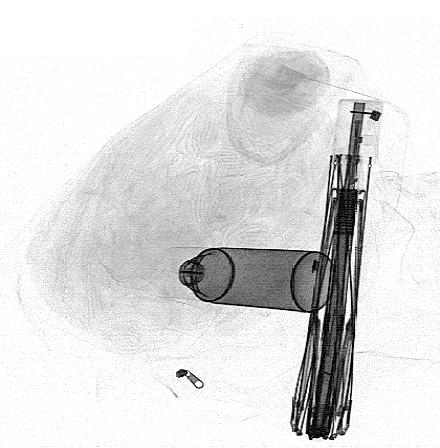Sprayer: (156, 246, 336, 313)
